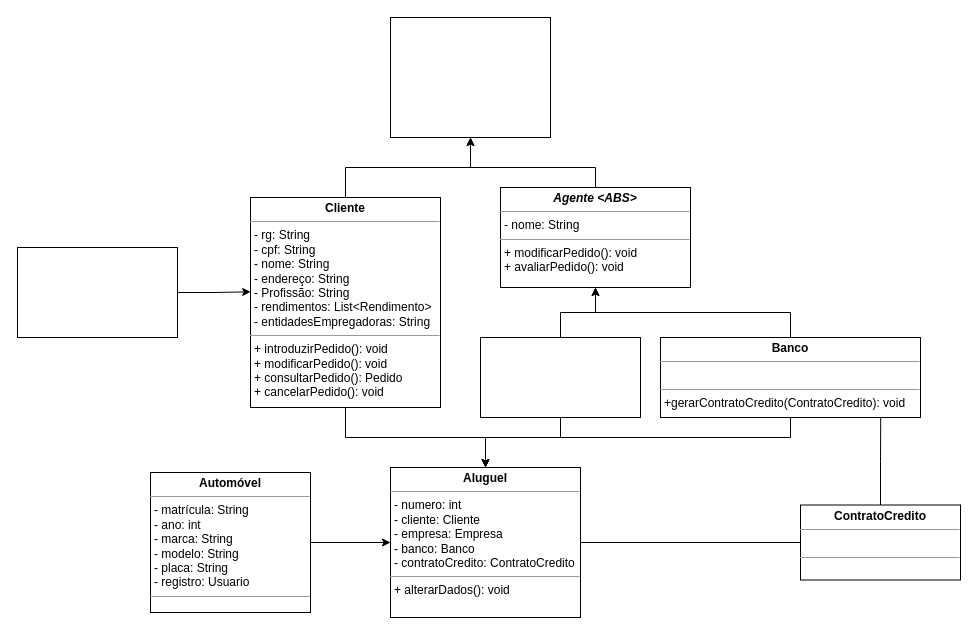
Some shapes in this 978 by 635 pixel diagram are drawn without their labels. Here are the shapes that lost their labels. From the top down, the centre of each, then its label:
At (470,77): "Usuário <ABS> - login: String - senha: String + logar(): void".
At (97,292): "Rendimento - valor: BigDecimal - tipo: String".
At (560,377): "Empresa".
